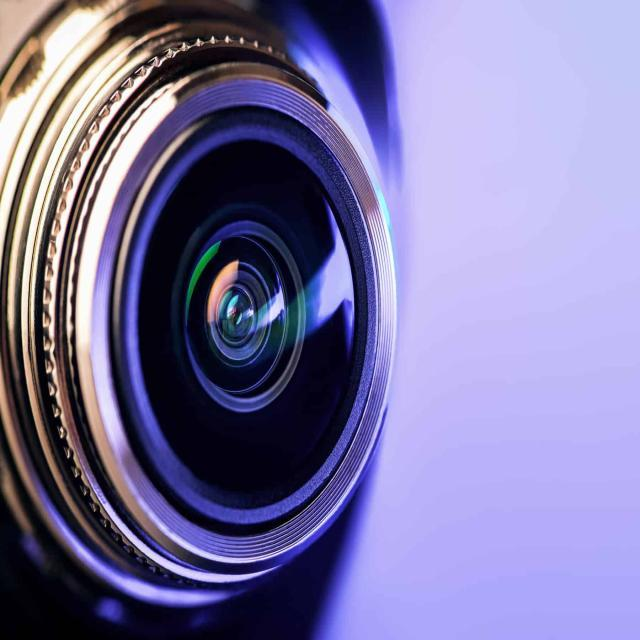hidden camera: (45, 38, 436, 599)
